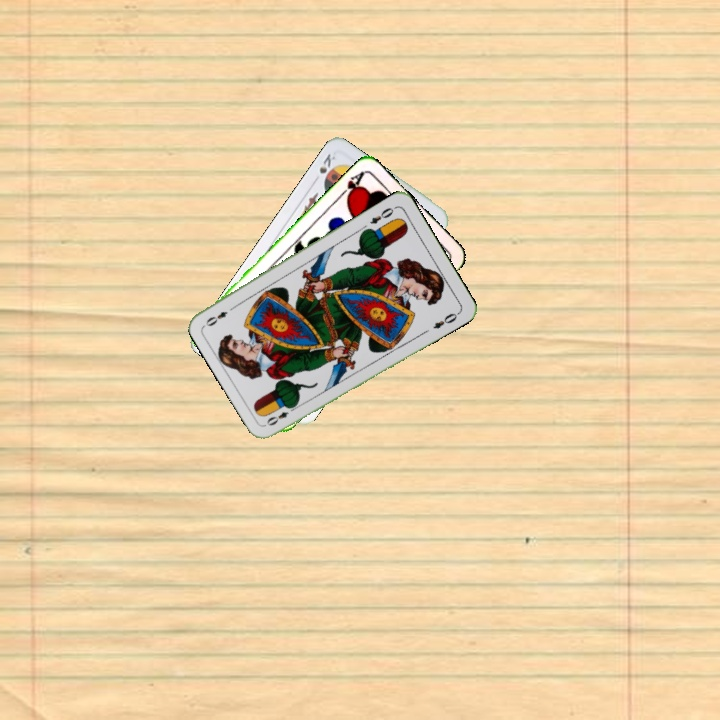EO: (262, 401, 299, 429), (366, 203, 396, 227)
HA: (334, 167, 367, 203)
SK: (315, 149, 338, 176)
